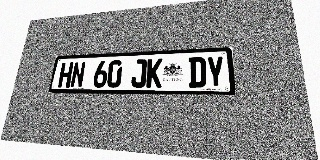0: (106, 60, 123, 88)
6: (92, 61, 109, 88)
D: (189, 57, 206, 88)
H: (57, 62, 74, 88)
J: (130, 59, 147, 88)
K: (146, 58, 163, 88)
N: (70, 61, 86, 88)
Y: (206, 56, 225, 88)
